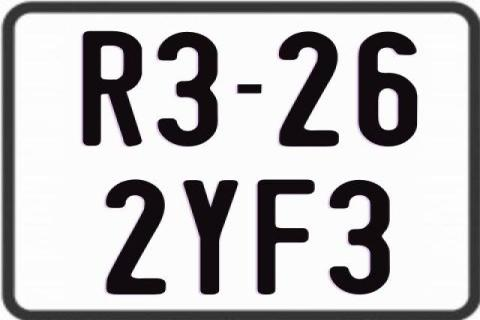0: (278, 31, 344, 147), (355, 30, 419, 146), (106, 177, 167, 297), (330, 179, 392, 293), (155, 32, 215, 148)
F: (257, 180, 318, 296)
R: (81, 32, 145, 152)
Y: (182, 178, 241, 294)
